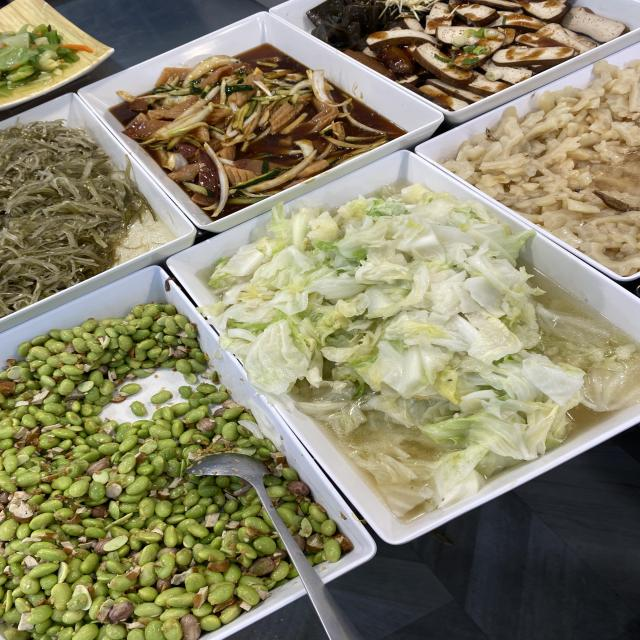bitter gourd: (509, 121, 629, 202)
cabbage: (302, 228, 512, 430)
